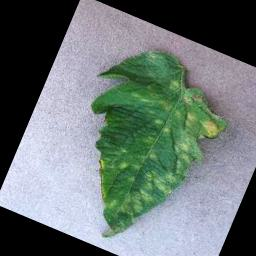Leaf_Mold: (193, 111, 229, 147)
